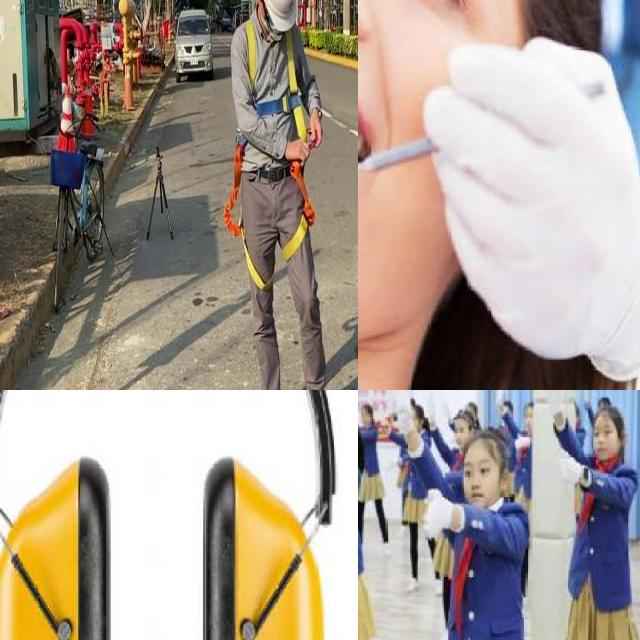Ear-protection: (0, 390, 347, 640)
Harness: (223, 134, 273, 292), (245, 20, 306, 140), (283, 162, 316, 262)
face_nomask: (358, 0, 481, 342), (461, 456, 501, 505), (590, 418, 622, 459)
hand_glove: (424, 38, 631, 366), (416, 482, 450, 544), (555, 445, 579, 482), (391, 390, 413, 429), (540, 390, 565, 410), (423, 390, 436, 425), (439, 395, 452, 419), (513, 428, 526, 452), (493, 390, 507, 412), (577, 390, 590, 405)
head_nohelmet: (452, 428, 504, 454), (448, 410, 475, 427), (601, 405, 621, 425)
person: (388, 390, 537, 640), (539, 390, 640, 640)
shoes: (402, 572, 421, 595)
